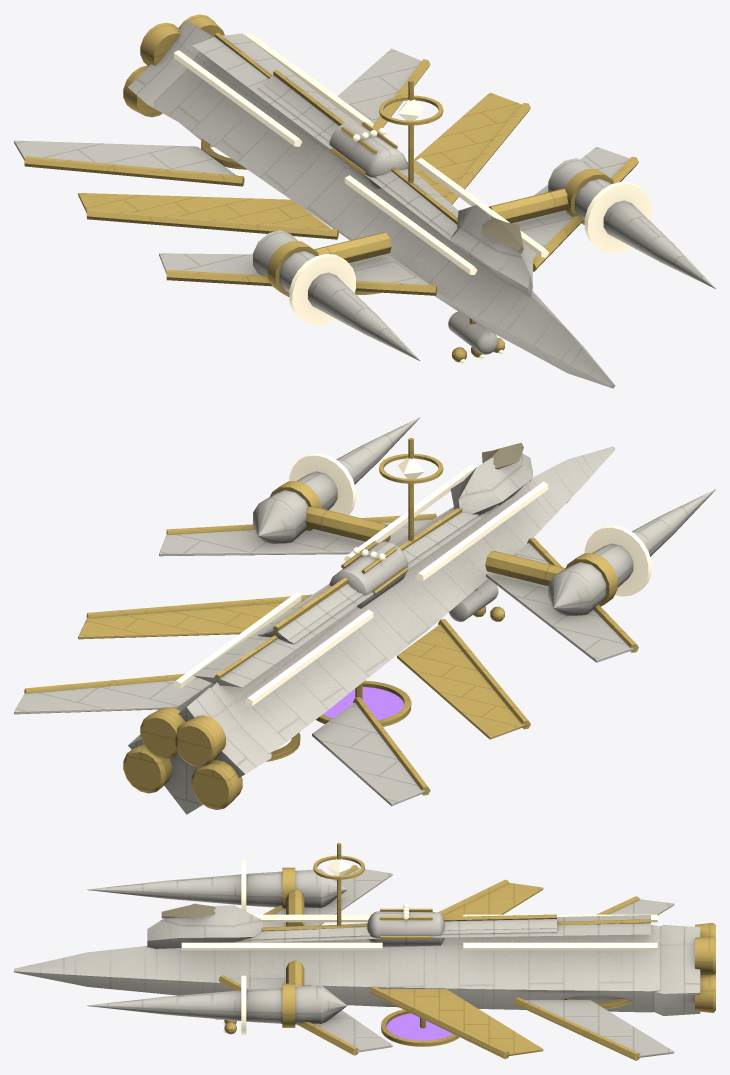
File: seraphine_destroyer.glb
The picture shows the model from 3 angles, top to bottom: view 1: azimuth 30°, elevation 25°; view 2: azimuth 150°, elevation 25°; view 3: azimuth 270°, elevation 25°; orthographic projection. The views are drawn at different scales.
Visible parts, largest first — view 1: HULL, SYS_WPN2, SYS_WPN1, SYS_DRIVE, SYS_BRIDGE, SYS_MSL, SYS_BUS_F, SYS_BUS_A, SYS_SENSORS, SYS_PD; view 2: HULL, SYS_DRIVE, SYS_WPN2, SYS_WPN1, SYS_BRIDGE, SYS_MSL, SYS_BUS_A, SYS_BUS_F, SYS_DAMP, SYS_SENSORS, SYS_PD; view 3: HULL, SYS_WPN1, SYS_WPN2, SYS_DRIVE, SYS_BRIDGE, SYS_BUS_F, SYS_MSL, SYS_BUS_A, SYS_DAMP, SYS_SENSORS.
Part boxes in pixels (x1=…): HULL: x1=14, y1=32, x2=638, y2=388; SYS_WPN2: x1=253, y1=230, x2=420, y2=360; SYS_WPN1: x1=488, y1=158, x2=715, y2=288; SYS_DRIVE: x1=123, y1=14, x2=224, y2=147; SYS_BRIDGE: x1=451, y1=205, x2=532, y2=296; SYS_MSL: x1=329, y1=121, x2=407, y2=189; SYS_BUS_F: x1=344, y1=158, x2=548, y2=274; SYS_BUS_A: x1=174, y1=32, x2=373, y2=146; SYS_SENSORS: x1=379, y1=80, x2=443, y2=182; SYS_PD: x1=448, y1=311, x2=504, y2=363; HULL: x1=14, y1=446, x2=638, y2=806; SYS_DRIVE: x1=123, y1=687, x2=271, y2=814; SYS_WPN2: x1=485, y1=489, x2=715, y2=615; SYS_WPN1: x1=253, y1=417, x2=420, y2=543; SYS_BRIDGE: x1=450, y1=442, x2=532, y2=515; SYS_MSL: x1=329, y1=541, x2=408, y2=608; SYS_BUS_A: x1=173, y1=592, x2=373, y2=706; SYS_BUS_F: x1=344, y1=464, x2=548, y2=581; SYS_DAMP: x1=316, y1=680, x2=411, y2=726; SYS_SENSORS: x1=379, y1=438, x2=443, y2=540; SYS_PD: x1=449, y1=579, x2=504, y2=621; HULL: x1=14, y1=865, x2=674, y2=1060; SYS_WPN1: x1=87, y1=960, x2=347, y2=1035; SYS_WPN2: x1=87, y1=860, x2=347, y2=926; SYS_DRIVE: x1=653, y1=923, x2=715, y2=1015; SYS_BRIDGE: x1=147, y1=903, x2=262, y2=948; SYS_BUS_F: x1=181, y1=914, x2=382, y2=950; SYS_MSL: x1=367, y1=903, x2=444, y2=946; SYS_BUS_A: x1=463, y1=914, x2=657, y2=950; SYS_DAMP: x1=381, y1=1009, x2=459, y2=1046; SYS_SENSORS: x1=313, y1=843, x2=364, y2=925.
Size of the model in its own units: 29.95 by 13.94 by 47.91.
1 material, 1 textured.
